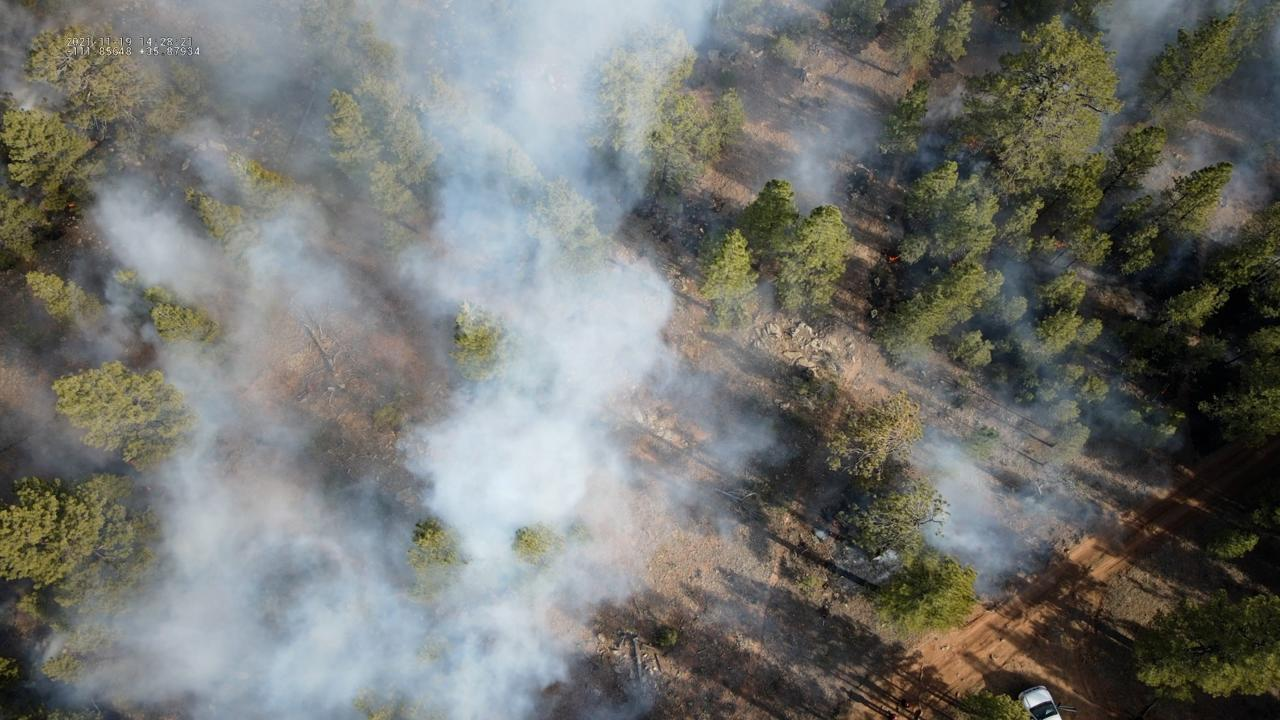fire: (965, 139, 982, 154), (888, 254, 902, 263), (1055, 240, 1069, 248), (68, 203, 76, 208)
smoke: (0, 0, 1280, 720)
